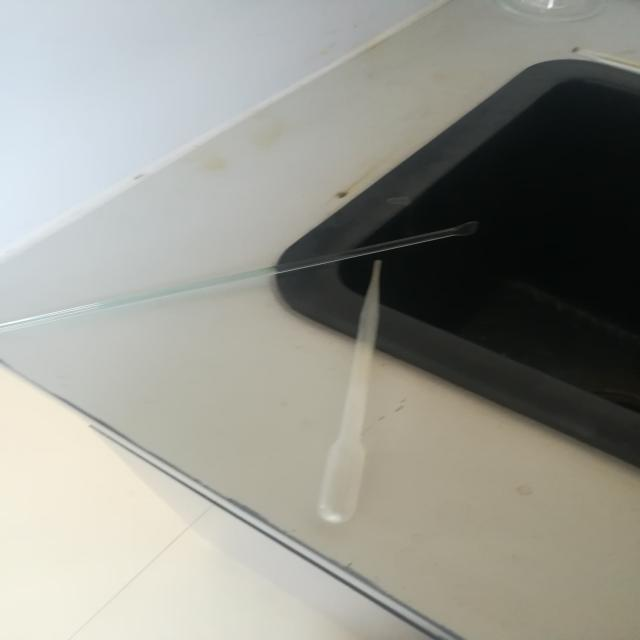Glass_Rod: (0, 207, 506, 346)
Pipette: (289, 250, 428, 540)
